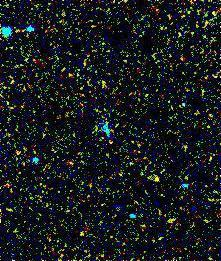star: (143, 165, 173, 195)
